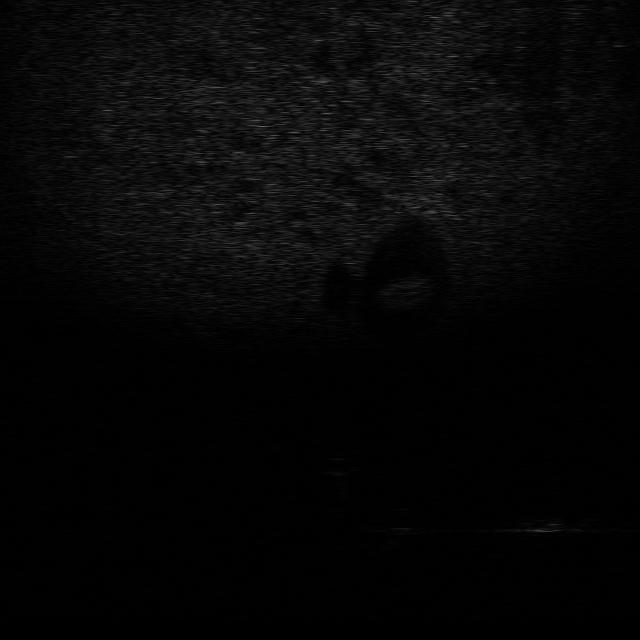ball: (317, 450, 363, 479)
metal bucket: (502, 512, 598, 542)
tyre: (356, 507, 450, 536)
